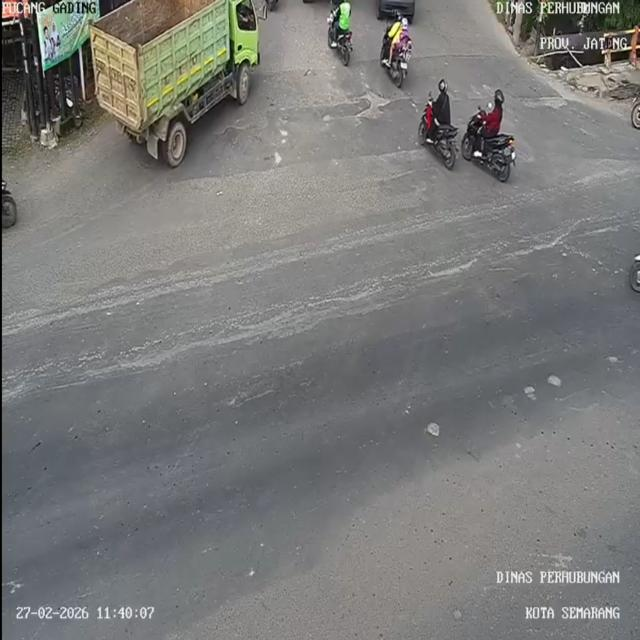motorcycle: (464, 118, 517, 184), (418, 108, 457, 168), (380, 32, 409, 89), (326, 18, 355, 72)
person: (431, 75, 454, 126), (484, 86, 506, 137), (331, 1, 353, 34), (390, 8, 403, 48), (402, 16, 412, 52)
rider_region: (464, 86, 518, 184), (416, 74, 459, 168), (379, 10, 412, 85), (326, 2, 355, 68)
